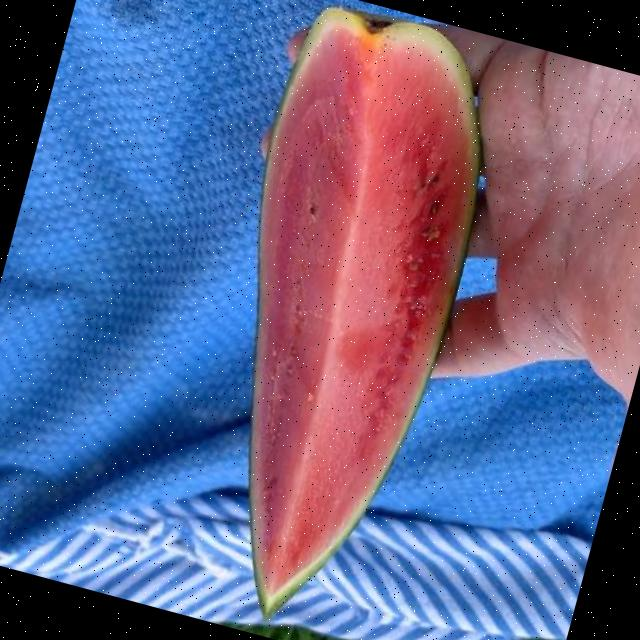watermelon-fresh: (246, 24, 478, 595)
